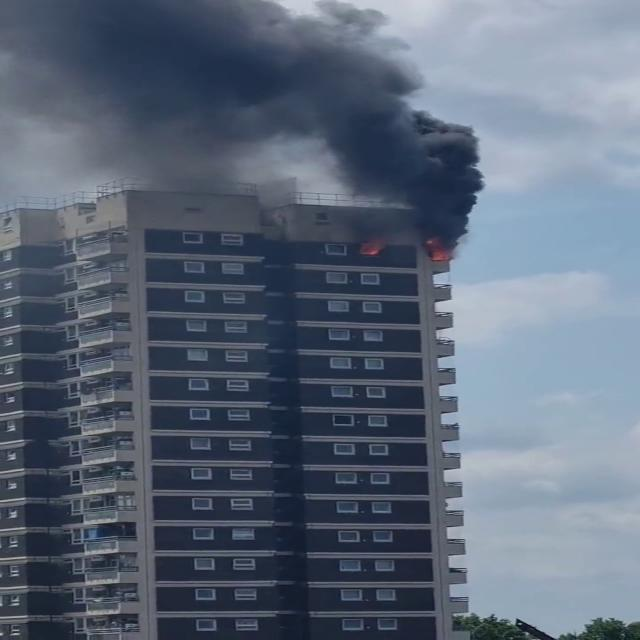Fire: (428, 240, 452, 265), (361, 240, 383, 258)
Smoke: (0, 0, 484, 234)
